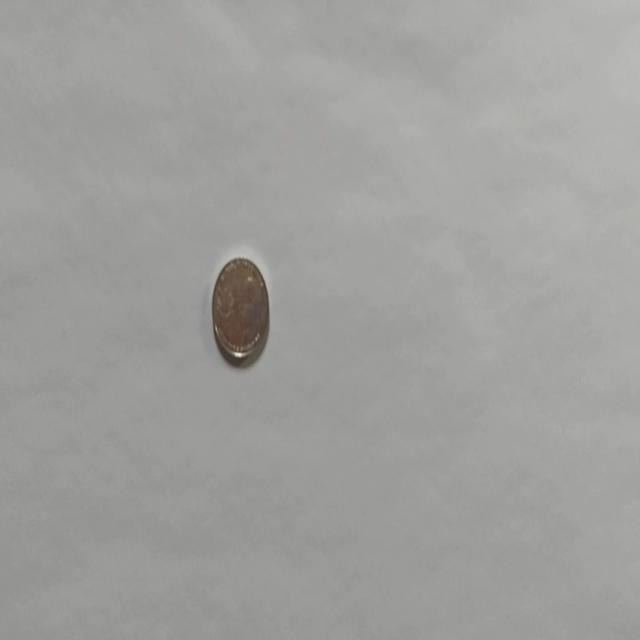lima ratus rupiah: (210, 254, 270, 364)
